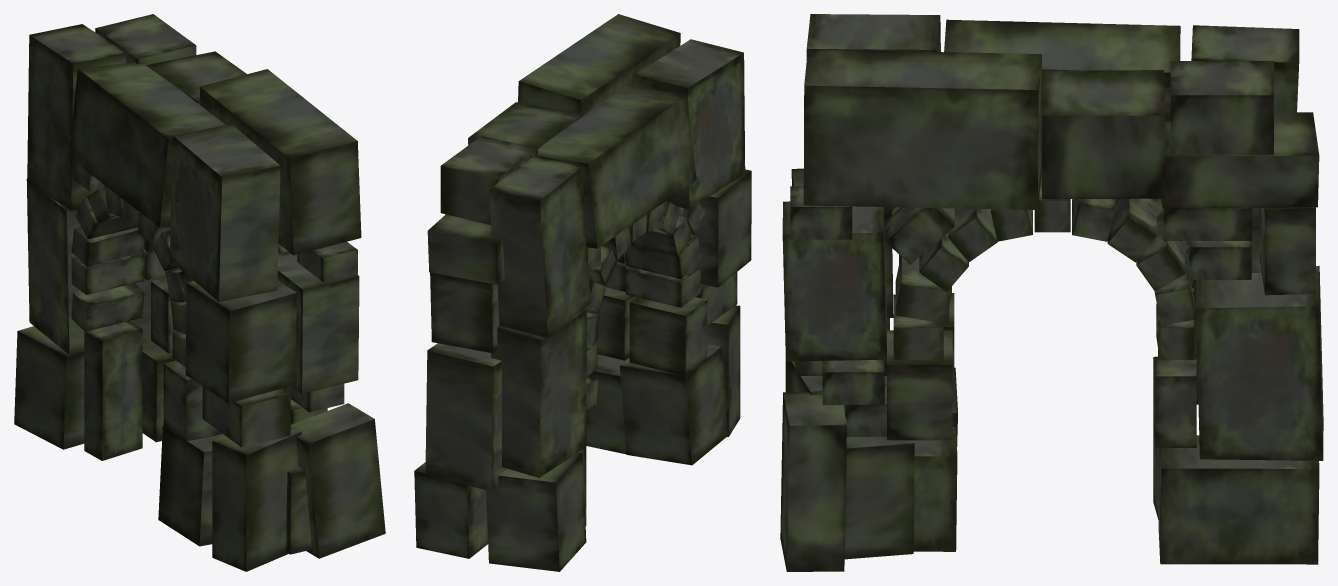
The model's file is ruin-archway-02.fbx.
3 renders of one model, left to right at view 1: azimuth 30°, elevation 25°; view 2: azimuth 150°, elevation 25°; view 3: azimuth 270°, elevation 25°, orthographic. The views are drawn at different scales.
Visible parts, largest first — view 1: archway_02; view 2: archway_02; view 3: archway_02.
Part boxes in pixels (x1,y1,x2,y2): archway_02: [14, 14, 385, 571]; archway_02: [414, 14, 751, 571]; archway_02: [780, 14, 1323, 571].
Bounding box in the file's own units: 183 × 431 × 440.
